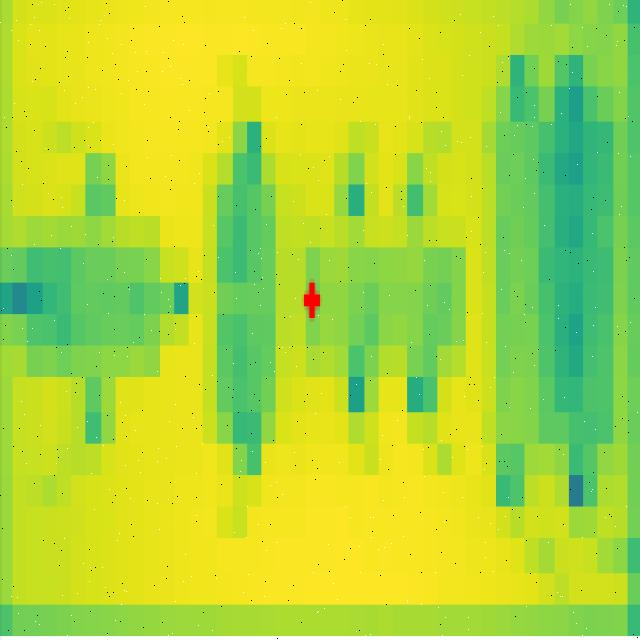Concrete: (26, 216, 160, 376)
Glass: (485, 118, 615, 444)
Metal: (214, 154, 278, 448)
Wood: (305, 250, 467, 379)
